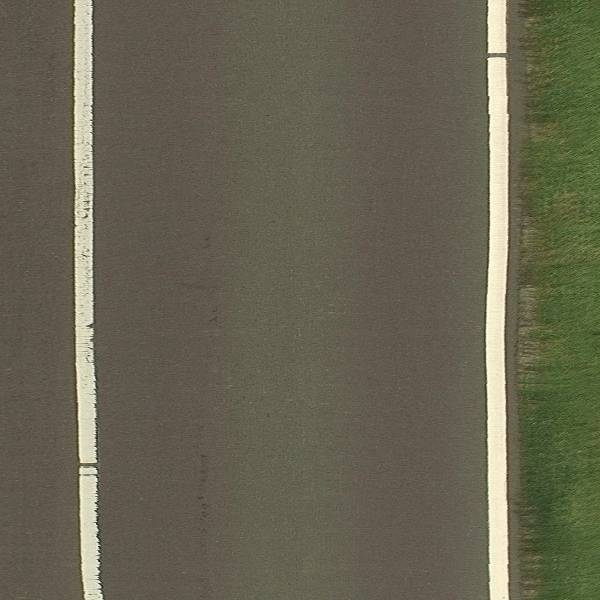road_damage: (186, 442, 224, 600)
